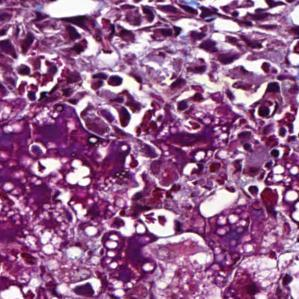ballooning: (139, 206, 181, 240)
